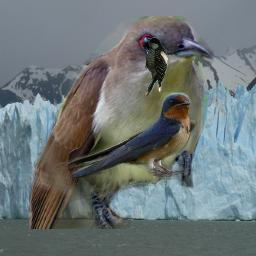Cuckoo: (29, 16, 214, 229)
Swallow: (45, 92, 198, 180)
Woodpecker: (145, 37, 168, 96)
